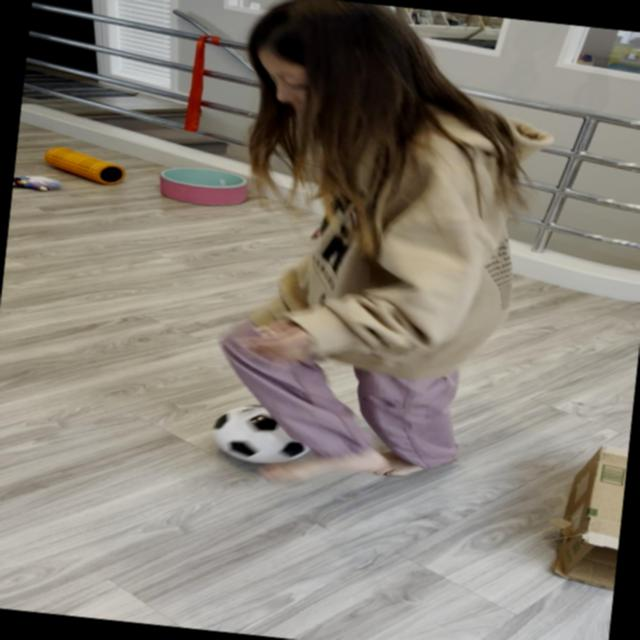Soccer Ball: (208, 398, 319, 469)
